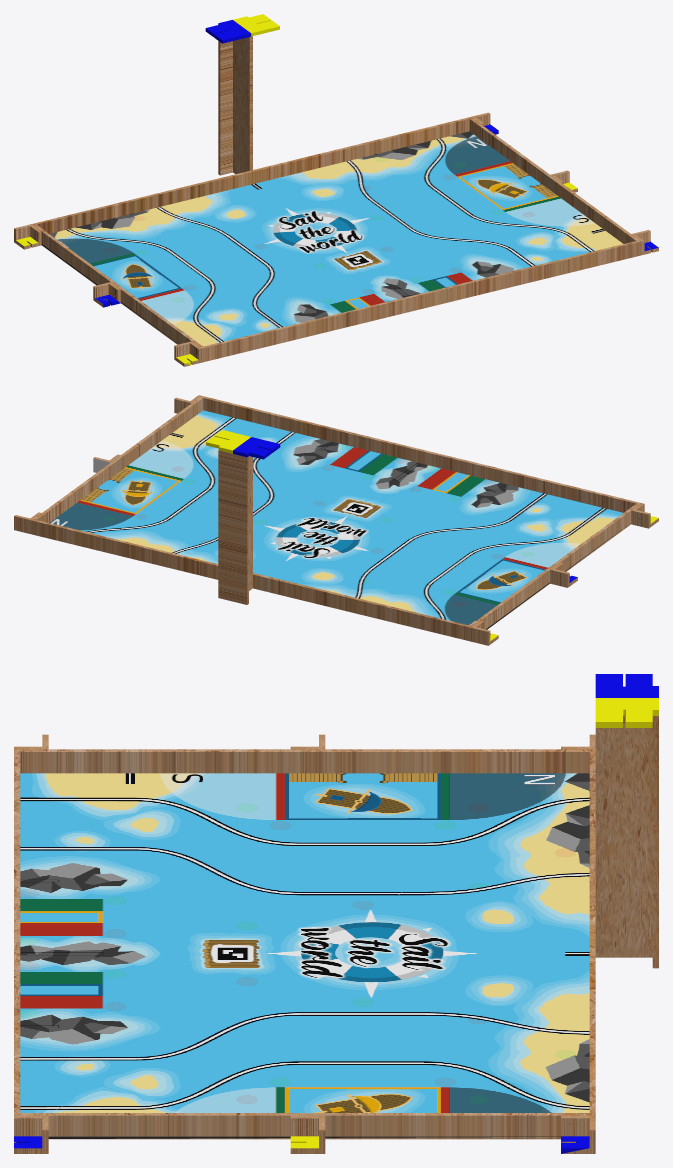
Rendered from terrain2020.dae.
3 views of the same model, one above another, from view 1: azimuth 30°, elevation 25°; view 2: azimuth 150°, elevation 25°; view 3: azimuth 270°, elevation 25° (orthographic). The views are drawn at different scales.
Visible parts, largest first — view 1: Shape_IndexedFaceSet, Shape_IndexedFaceSet.001, Shape_IndexedFaceSet.002, Shape_IndexedFaceSet.005, Shape_IndexedFaceSet.007, Shape_IndexedFaceSet.004, Shape_IndexedFaceSet.003, Shape_IndexedFaceSet.006; view 2: Shape_IndexedFaceSet, Shape_IndexedFaceSet.001, Shape_IndexedFaceSet.002, Shape_IndexedFaceSet.005, Shape_IndexedFaceSet.007, Shape_IndexedFaceSet.004, Shape_IndexedFaceSet.003, Shape_IndexedFaceSet.006; view 3: Shape_IndexedFaceSet, Shape_IndexedFaceSet.001, Shape_IndexedFaceSet.002, Shape_IndexedFaceSet.007, Shape_IndexedFaceSet.005, Shape_IndexedFaceSet.010, Shape_IndexedFaceSet.009, Shape_IndexedFaceSet.008.
Boxes of the visible parts, x1,y1,x2,y2 form: Shape_IndexedFaceSet: (41, 131, 641, 362); Shape_IndexedFaceSet.001: (32, 117, 641, 360); Shape_IndexedFaceSet.002: (218, 36, 252, 175); Shape_IndexedFaceSet.005: (205, 20, 251, 43); Shape_IndexedFaceSet.007: (233, 14, 279, 36); Shape_IndexedFaceSet.004: (174, 341, 201, 366); Shape_IndexedFaceSet.003: (14, 224, 41, 249); Shape_IndexedFaceSet.006: (93, 282, 120, 307); Shape_IndexedFaceSet: (31, 410, 631, 641); Shape_IndexedFaceSet.001: (31, 396, 640, 639); Shape_IndexedFaceSet.002: (218, 450, 252, 604); Shape_IndexedFaceSet.005: (233, 437, 280, 459); Shape_IndexedFaceSet.007: (206, 430, 250, 453); Shape_IndexedFaceSet.004: (631, 503, 658, 528); Shape_IndexedFaceSet.003: (471, 620, 498, 645); Shape_IndexedFaceSet.006: (550, 562, 577, 587); Shape_IndexedFaceSet: (20, 773, 589, 1139); Shape_IndexedFaceSet.001: (14, 749, 595, 1136); Shape_IndexedFaceSet.002: (595, 715, 658, 968); Shape_IndexedFaceSet.007: (595, 698, 658, 727); Shape_IndexedFaceSet.005: (595, 674, 658, 697); Shape_IndexedFaceSet.010: (290, 1115, 325, 1153); Shape_IndexedFaceSet.009: (561, 1115, 595, 1153); Shape_IndexedFaceSet.008: (14, 1115, 48, 1153).
Size of the model in its own units: 3.29 by 2.27 by 1.
Materials: 5 (2 with a texture image).
